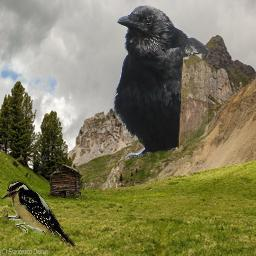Crow: (110, 4, 208, 159)
Woodpecker: (0, 178, 76, 248)
